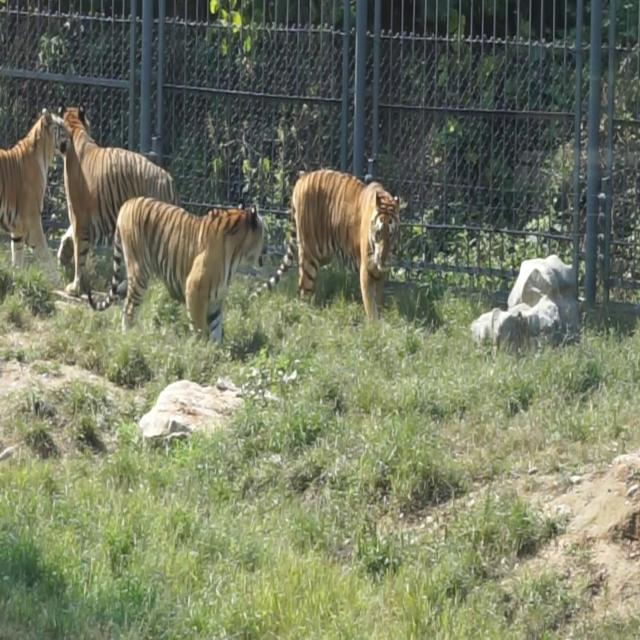Tiger: (80, 183, 284, 362), (59, 98, 178, 310), (286, 166, 400, 322), (0, 104, 71, 300)
